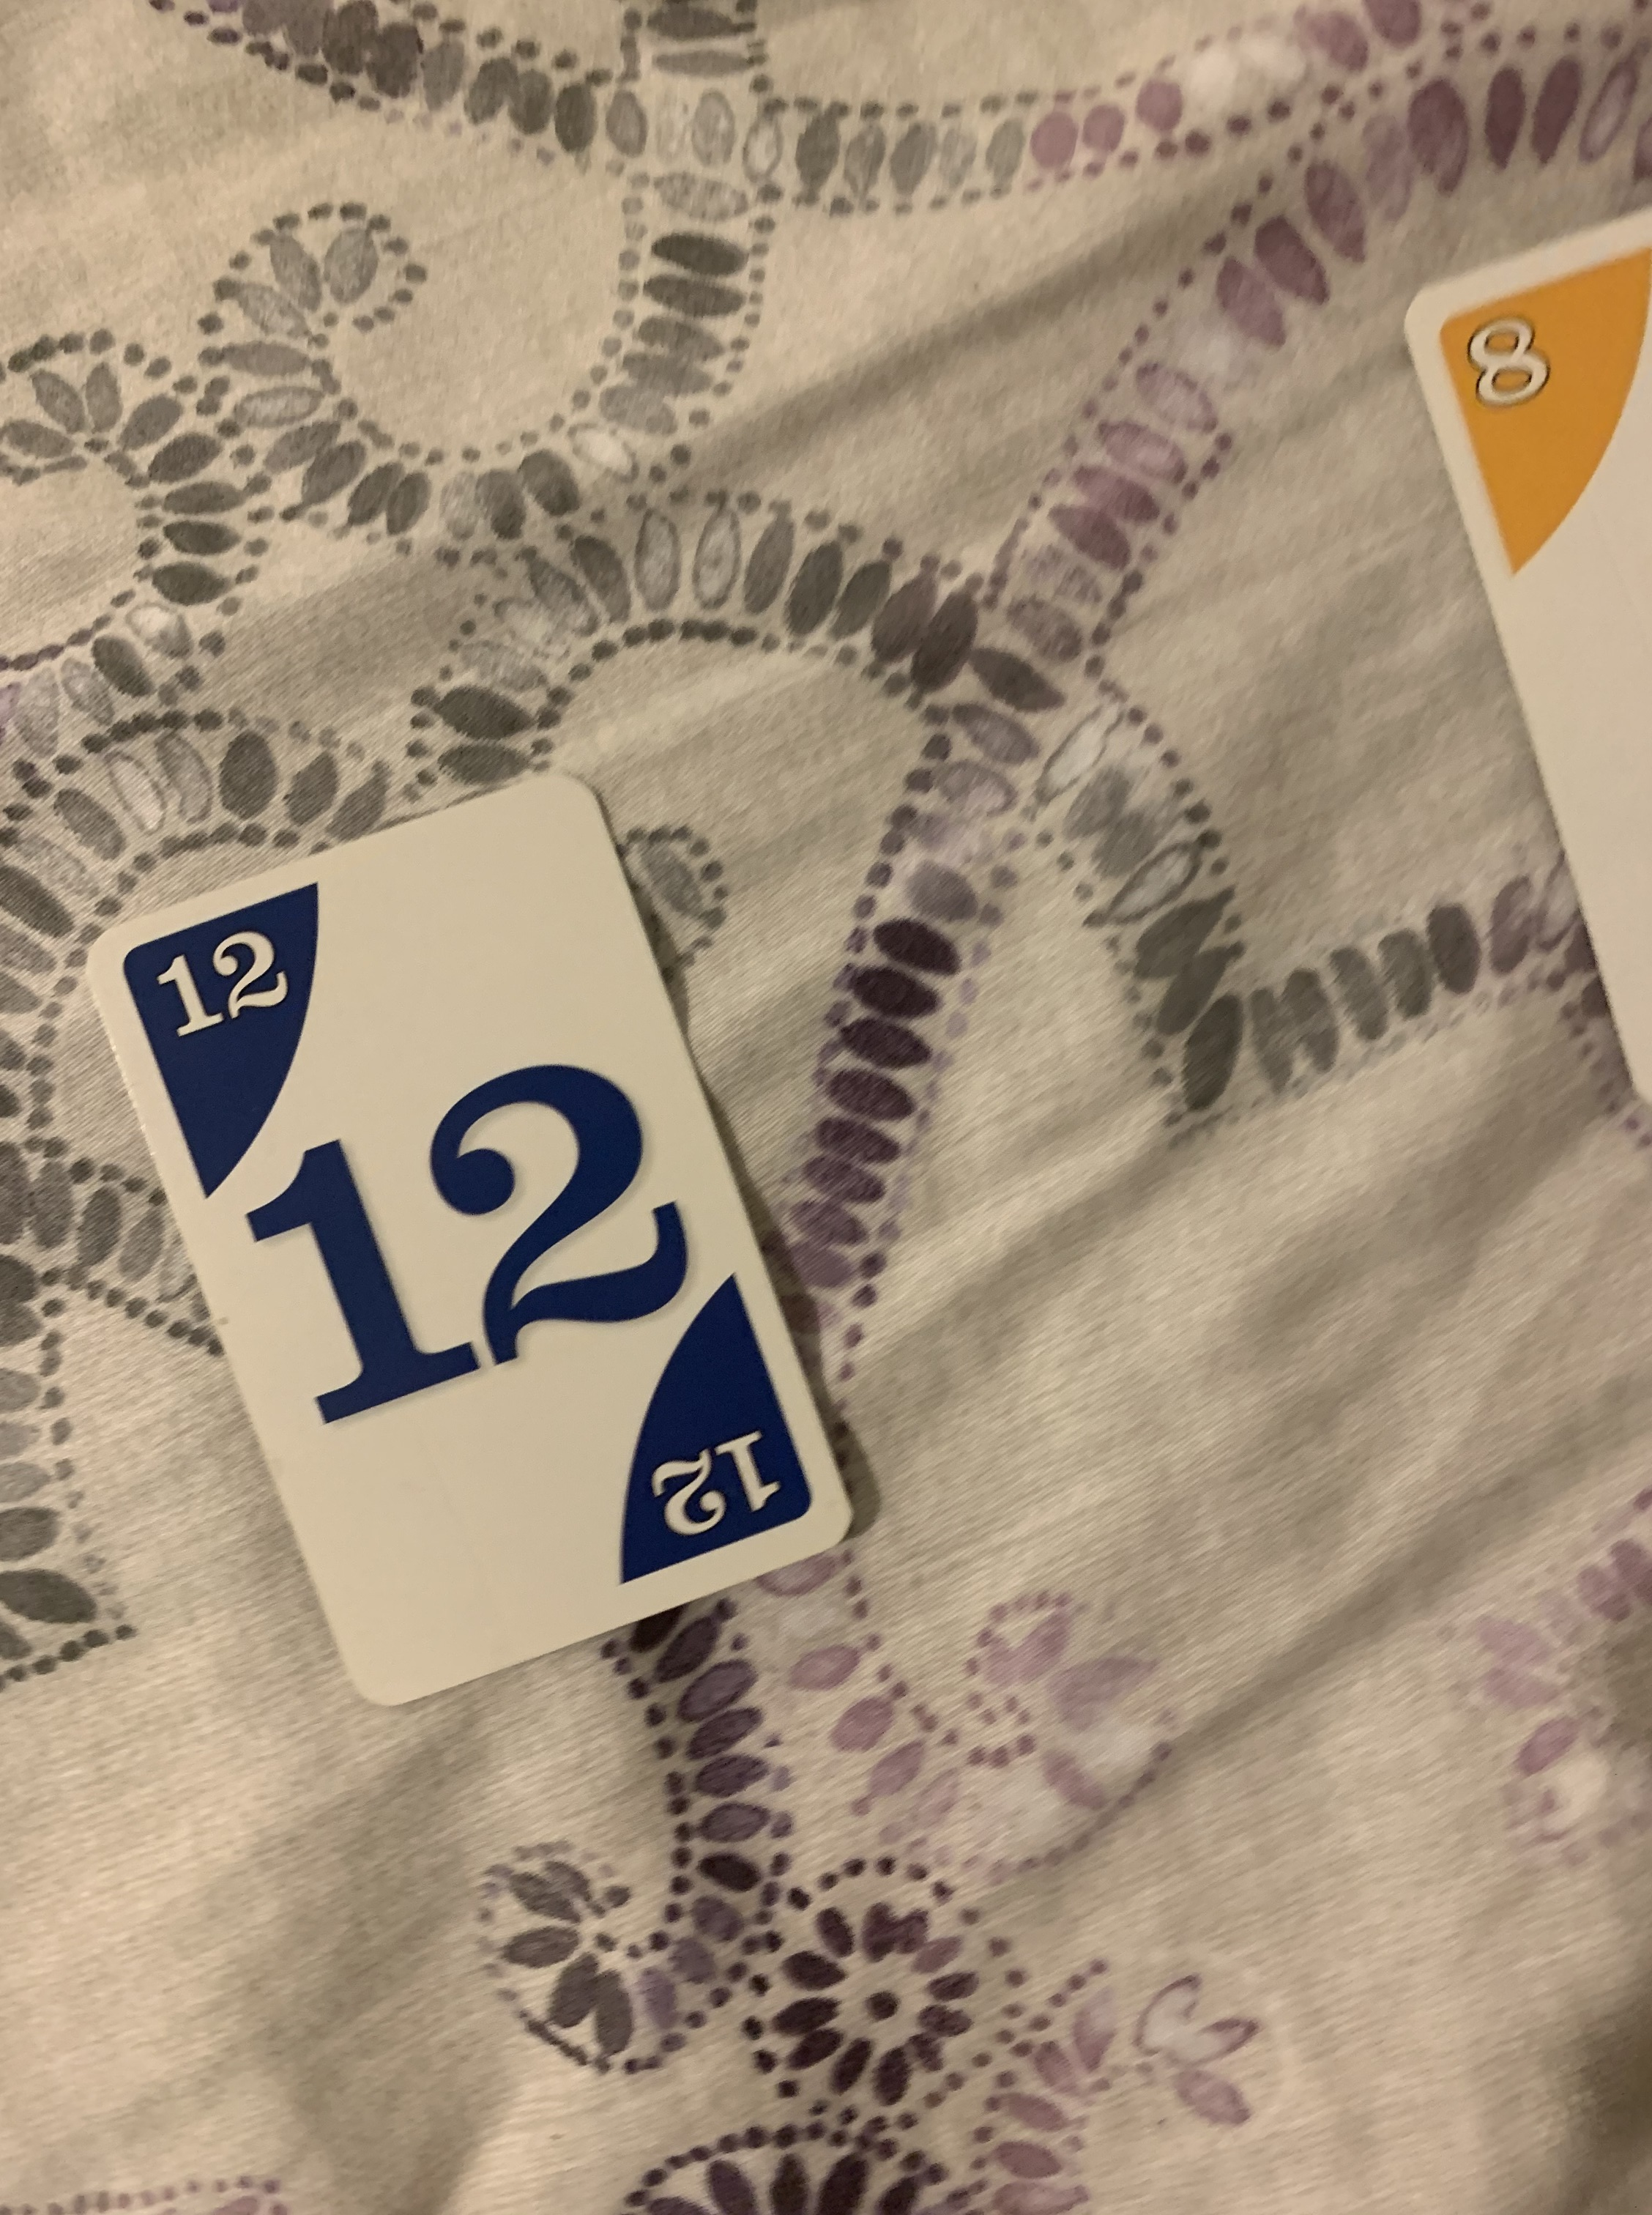twelve: (90, 767, 854, 1712)
